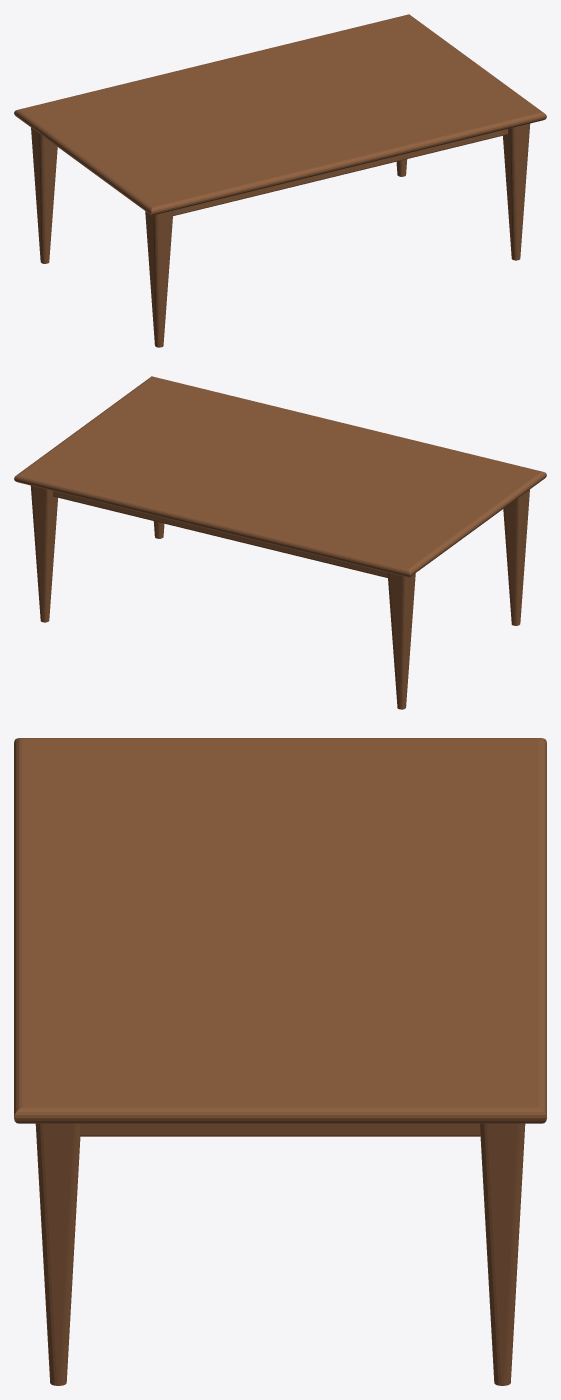
Rendered from Table.fbx.
3 renders of one model, top to bottom at view 1: azimuth 30°, elevation 25°; view 2: azimuth 150°, elevation 25°; view 3: azimuth 270°, elevation 25°, orthographic. The views are drawn at different scales.
Visible parts, largest first — view 1: Table; view 2: Table; view 3: Table.
Boxes of the visible parts, x1=… form: Table: x1=14, y1=14, x2=546, y2=347; Table: x1=14, y1=376, x2=546, y2=709; Table: x1=14, y1=738, x2=546, y2=1385.
Size of the model in its own units: 2 by 0.7212 by 1.2.
